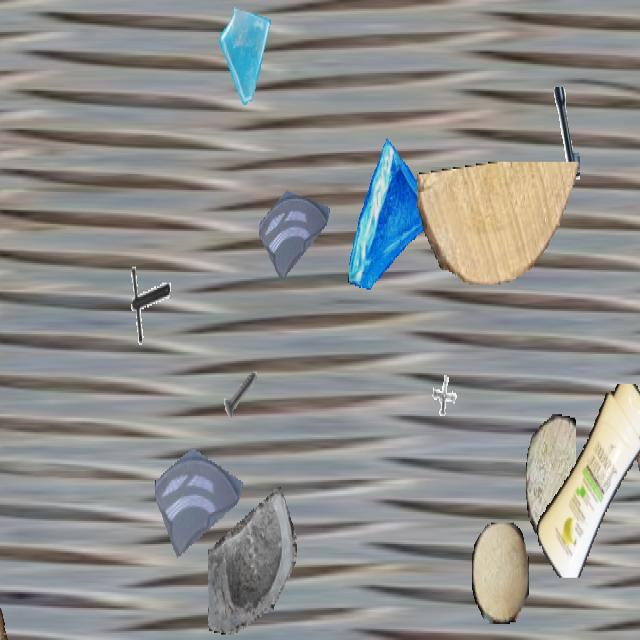glass: (346, 137, 440, 304), (208, 482, 296, 638), (155, 416, 243, 572), (259, 162, 331, 290), (218, 2, 276, 105)
metal: (522, 87, 580, 190), (122, 261, 170, 347), (220, 357, 262, 432), (426, 361, 466, 432)
plastic: (534, 384, 640, 576)
wood: (417, 162, 583, 282), (526, 414, 576, 542), (472, 523, 528, 622), (613, 391, 640, 573), (0, 471, 11, 638)
